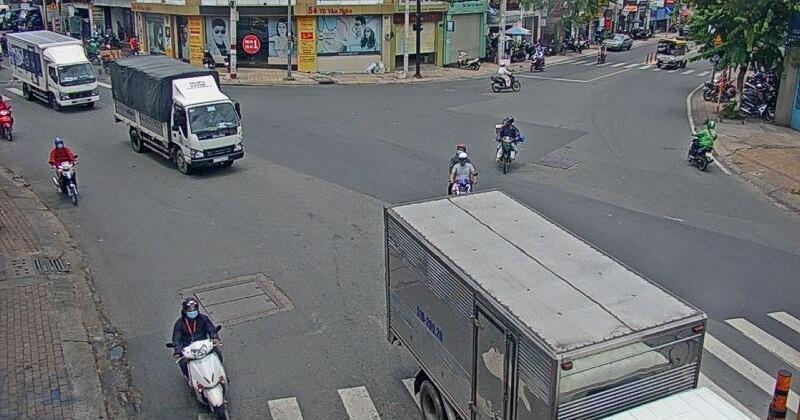xe may: (161, 295, 240, 420), (46, 137, 82, 204), (445, 145, 474, 198), (492, 118, 517, 170)
xe tai: (379, 185, 763, 420), (104, 57, 249, 178), (3, 26, 99, 110)
